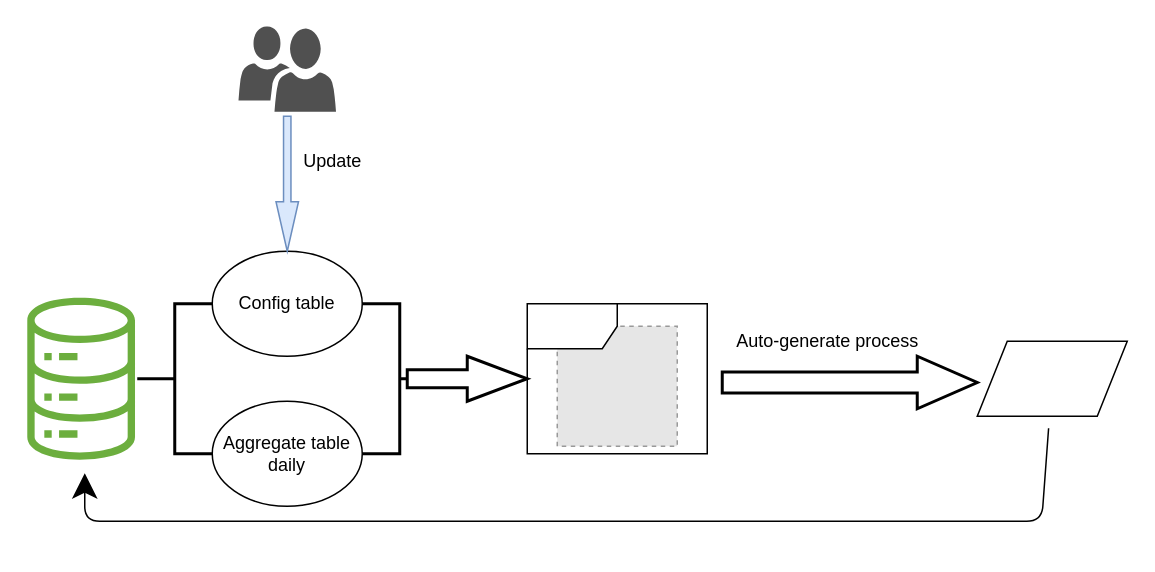
Image size: 1155x572. Some labels were removed from this diagram. Grey dashed boxes stand in for pictures. Here are the shapes that lost their labels. From the top down, the centre of each, then its label:
At pixel 616 378: "ETL System".
At pixel 1051 378: "Final result".
